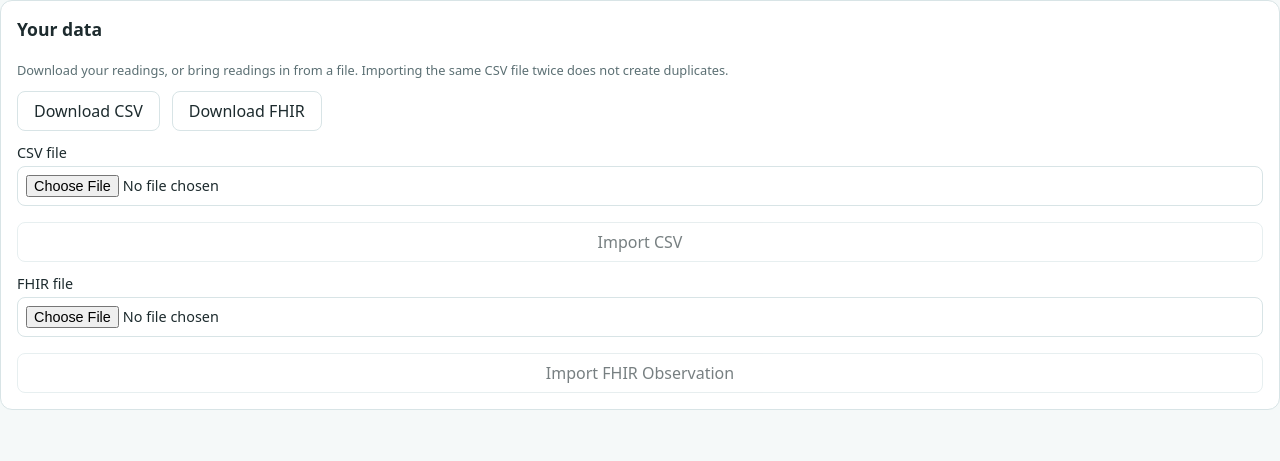
Test: DataToolsPanel downloads › shows the server's message when a download is refused
Click the button "Download CSV" at (88, 111), box [17, 91, 160, 131]
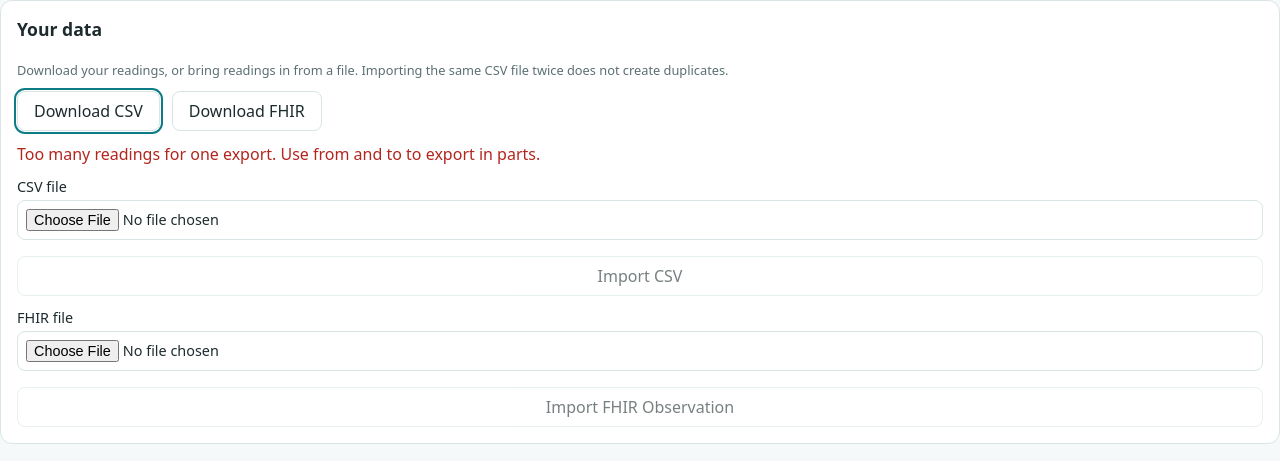
Now the message shows "Too many readings", box [17, 143, 540, 165]
